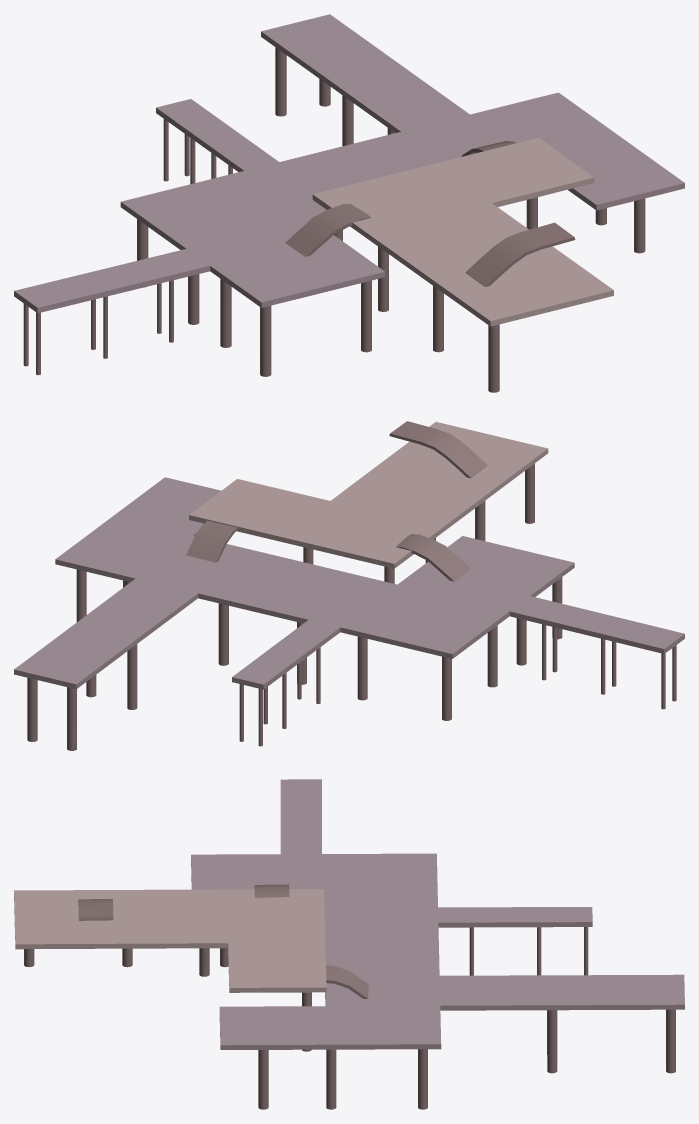
Rendered from M_Shore.fbx.
3 renders of one model, top to bottom at view 1: azimuth 30°, elevation 25°; view 2: azimuth 150°, elevation 25°; view 3: azimuth 270°, elevation 25°, orthographic. The views are drawn at different scales.
Visible parts, largest first — view 1: M_Shore; view 2: M_Shore; view 3: M_Shore.
Part boxes in pixels (x1,y1,x2,y2): M_Shore: [14, 14, 684, 392]; M_Shore: [14, 421, 684, 750]; M_Shore: [14, 779, 684, 1109].
Bounding box in the file's own units: 1506 × 316 × 1606.
